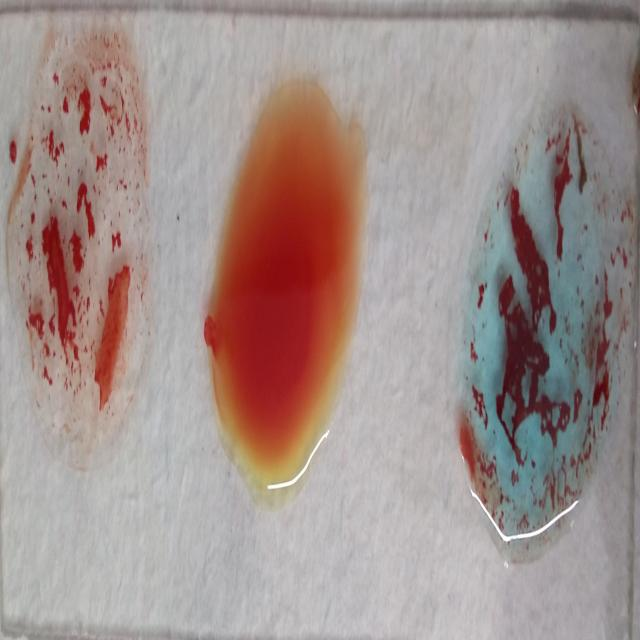A: (469, 111, 618, 569)
D: (24, 29, 148, 443)
